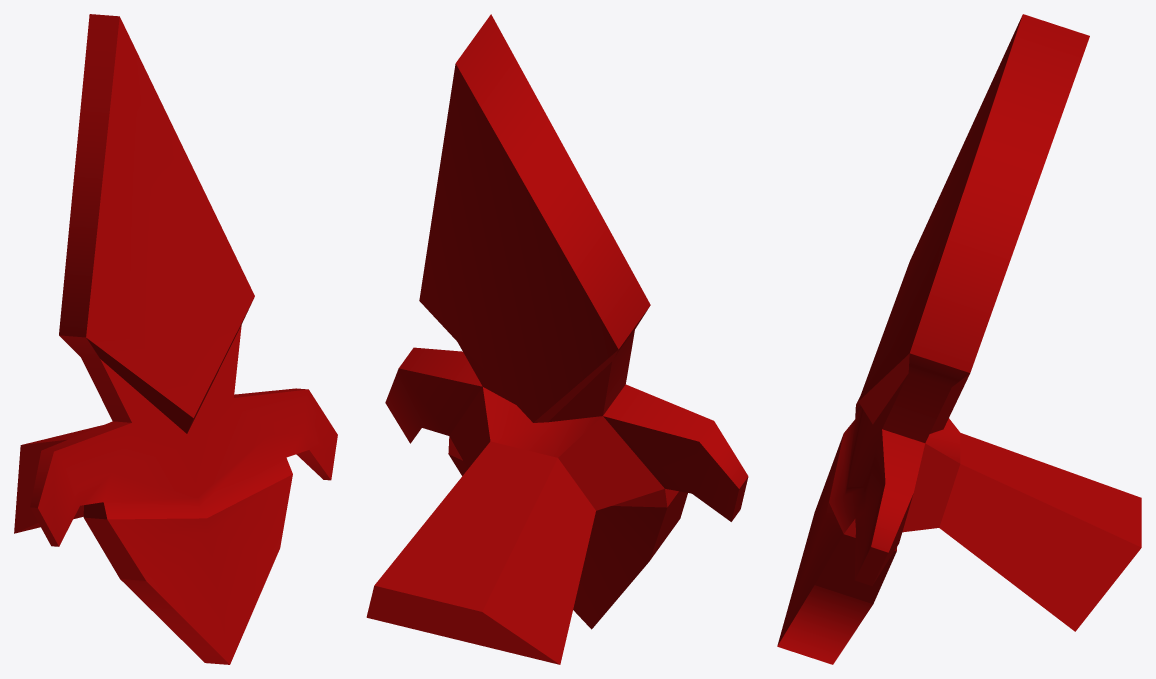
Rendered from Chr_HelmetAttachment_Static_09.fbx.
3 renders of one model, left to right at view 1: azimuth 30°, elevation 25°; view 2: azimuth 150°, elevation 25°; view 3: azimuth 270°, elevation 25°, orthographic. The views are drawn at different scales.
Parts seen in each view (by area): view 1: Chr_HelmetAttachment_09; view 2: Chr_HelmetAttachment_09; view 3: Chr_HelmetAttachment_09.
Boxes of the visible parts, box(x1,y1,x2,y2) form: Chr_HelmetAttachment_09: box(14, 14, 337, 664); Chr_HelmetAttachment_09: box(366, 14, 748, 664); Chr_HelmetAttachment_09: box(777, 14, 1141, 664).
Size of the model in its own units: 12.79 by 23.81 by 12.08.
